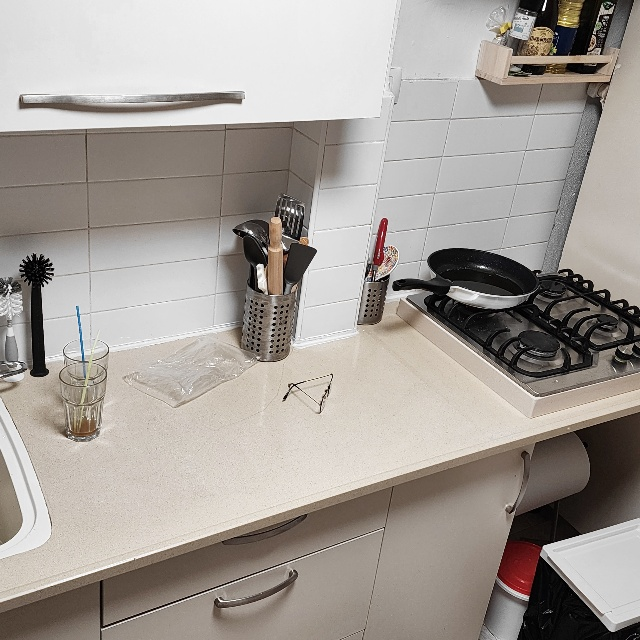glasses: (281, 370, 336, 413)
